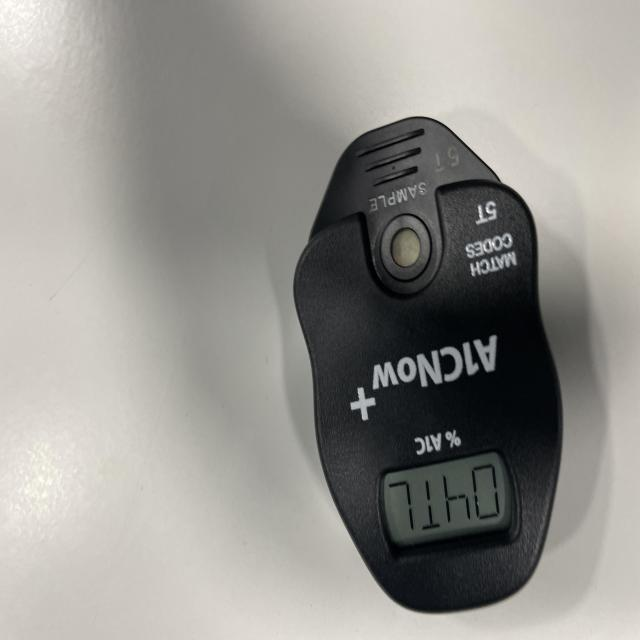hba1c: (290, 117, 564, 617)
